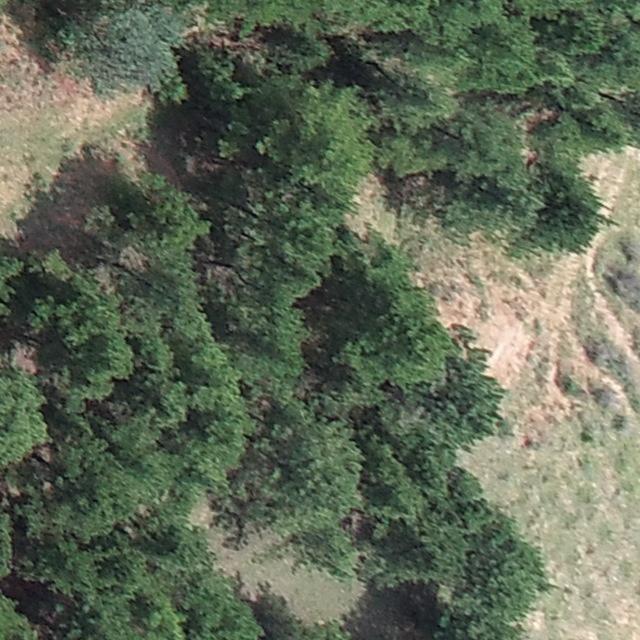unhealthy: (9, 340, 41, 375)
